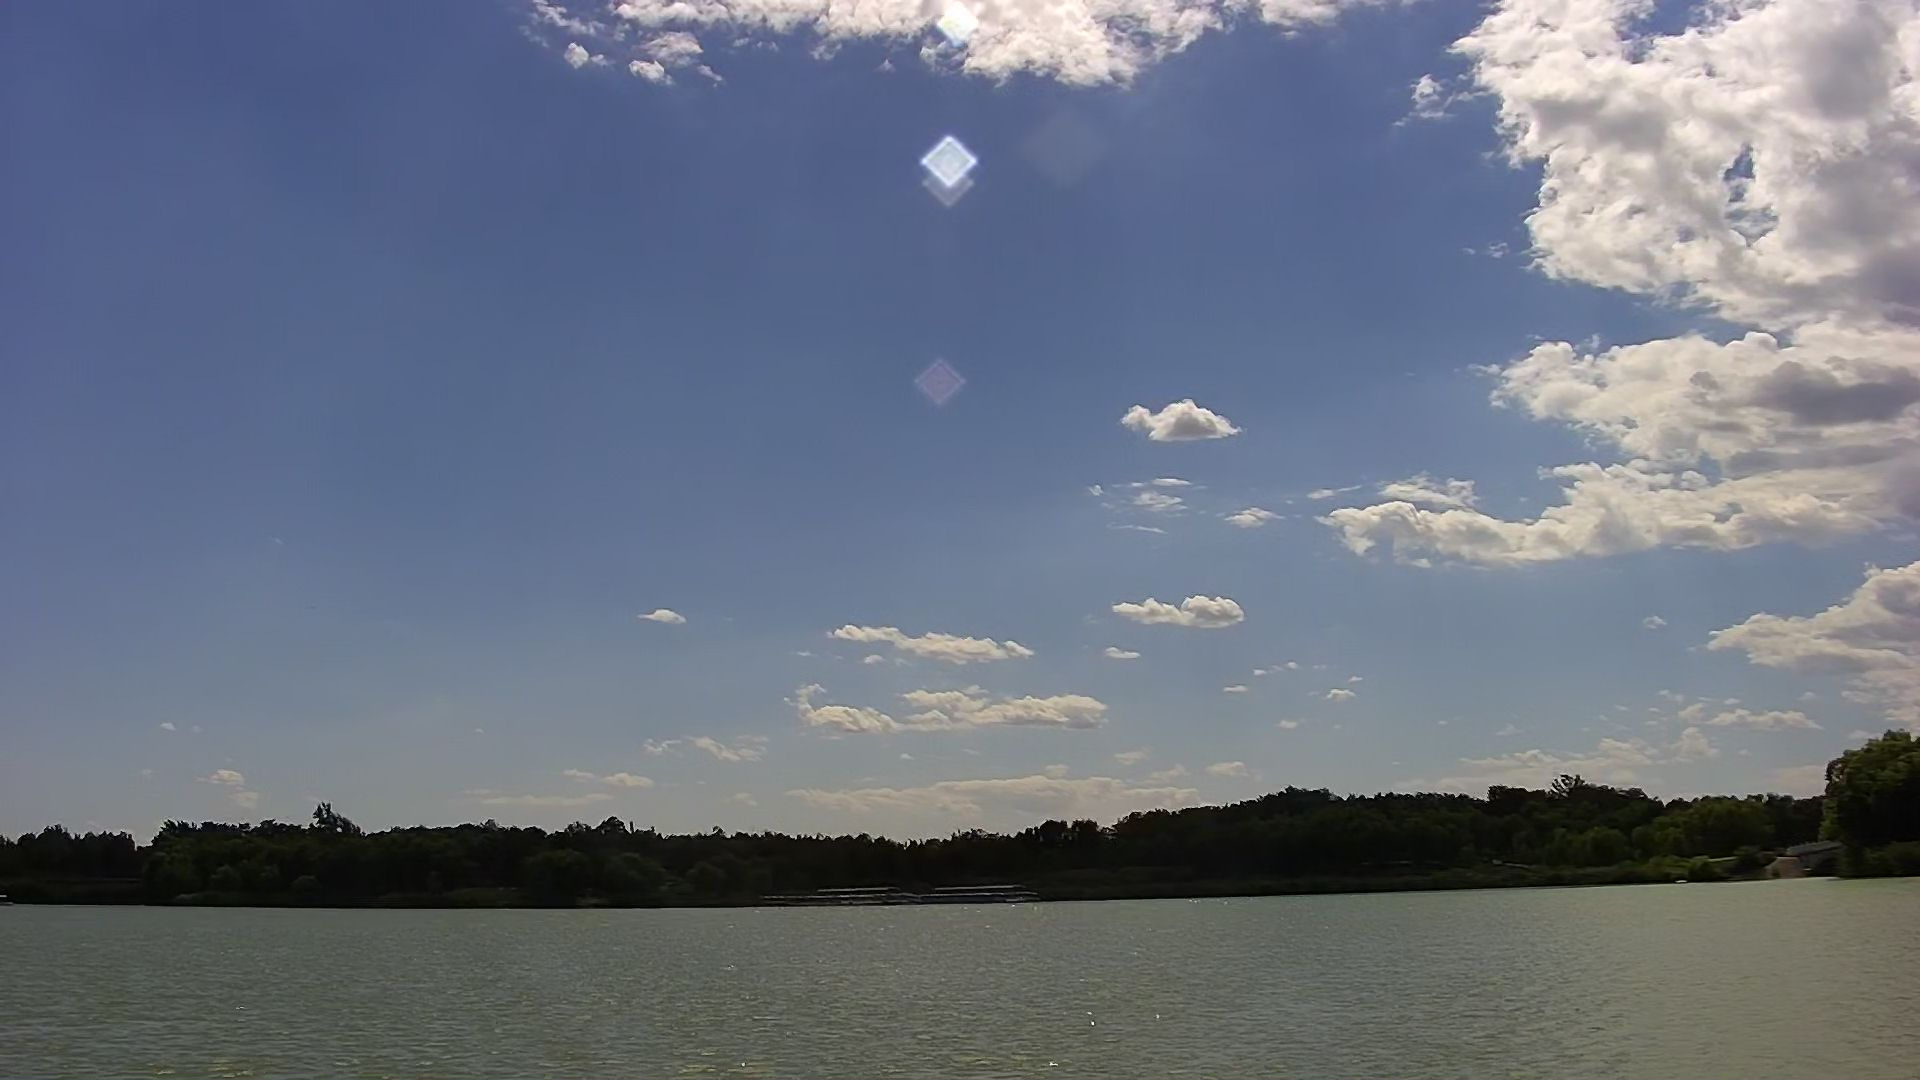harbor: (806, 887, 1025, 905)
